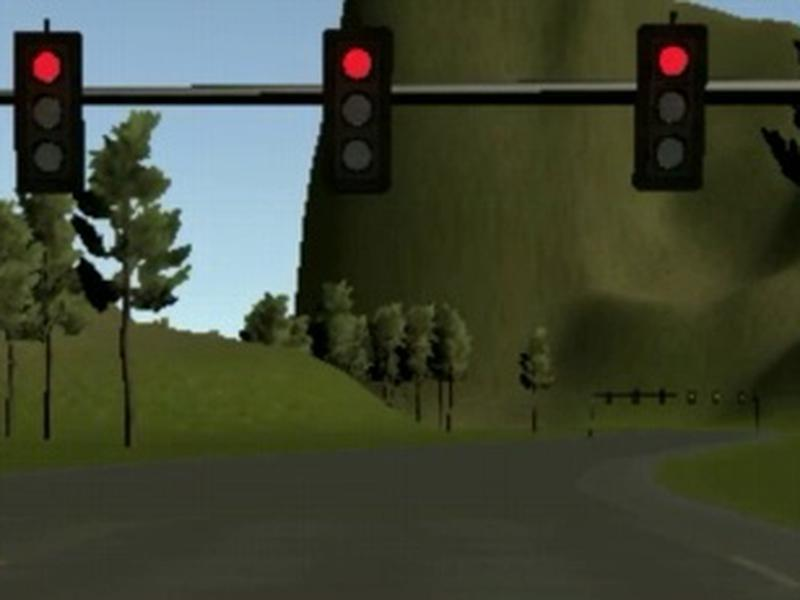Red: (633, 24, 709, 189), (14, 33, 86, 194), (323, 30, 392, 195)
